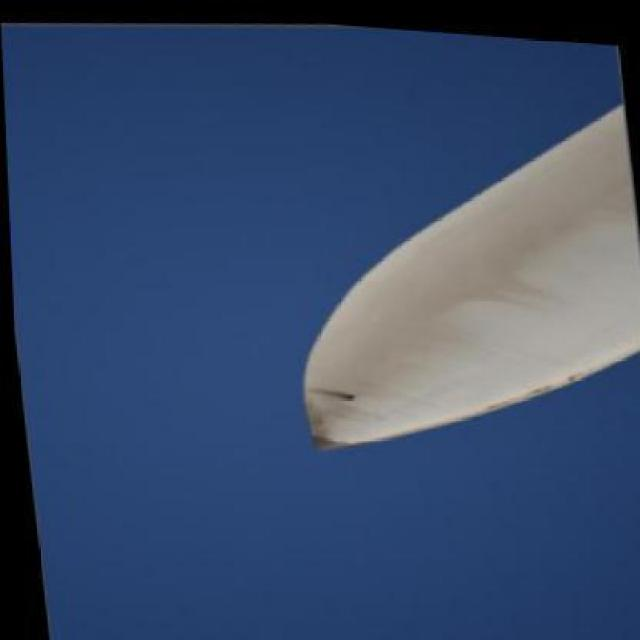Burn Mark: (309, 378, 369, 406)
